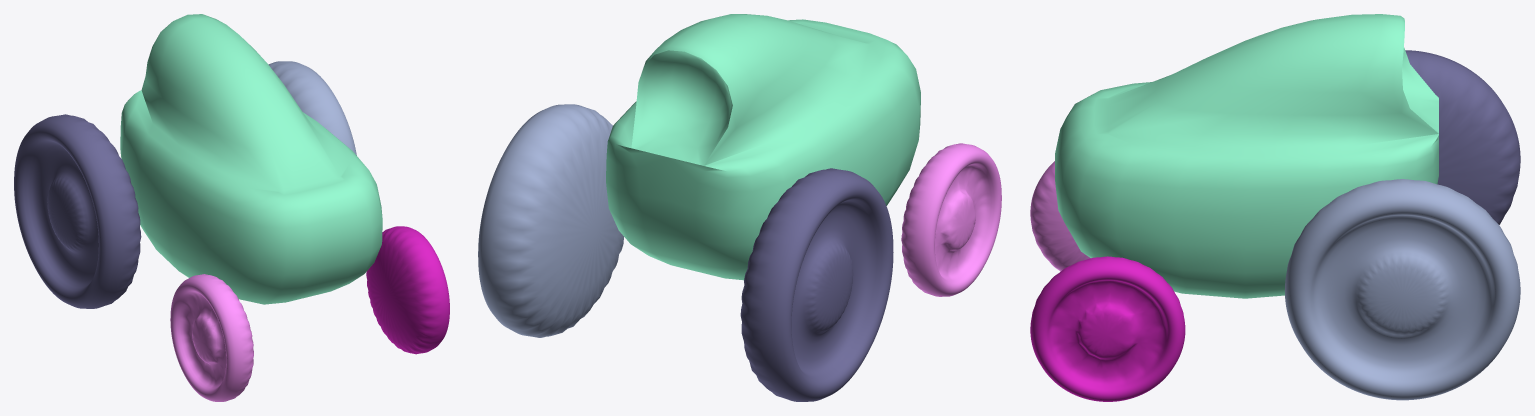
3 renders of one model, left to right at view 1: azimuth 30°, elevation 25°; view 2: azimuth 150°, elevation 25°; view 3: azimuth 270°, elevation 25°, orthographic. The views are drawn at different scales.
Visible parts, largest first — view 1: Cube_0, Cube_0.5579, Cube_0.8395, Cube_0.2970, Cube_0.154; view 2: Cube_0, Cube_0.5579, Cube_0.154, Cube_0.8395; view 3: Cube_0, Cube_0.154, Cube_0.2970, Cube_0.5579, Cube_0.8395.
Boxes of the visible parts, <box> form: Cube_0: <box>120,14,382,304</box>; Cube_0.5579: <box>14,114,141,308</box>; Cube_0.8395: <box>170,274,253,401</box>; Cube_0.2970: <box>366,226,449,354</box>; Cube_0.154: <box>268,61,356,155</box>; Cube_0: <box>606,14,920,280</box>; Cube_0.5579: <box>740,168,893,401</box>; Cube_0.154: <box>478,104,623,337</box>; Cube_0.8395: <box>901,143,1001,296</box>; Cube_0: <box>1055,14,1438,298</box>; Cube_0.154: <box>1285,179,1520,400</box>; Cube_0.2970: <box>1030,256,1185,401</box>; Cube_0.5579: <box>1405,50,1520,224</box>; Cube_0.8395: <box>1030,161,1090,271</box>.
Size of the model in its own units: 0.7271 by 0.7252 by 1.
